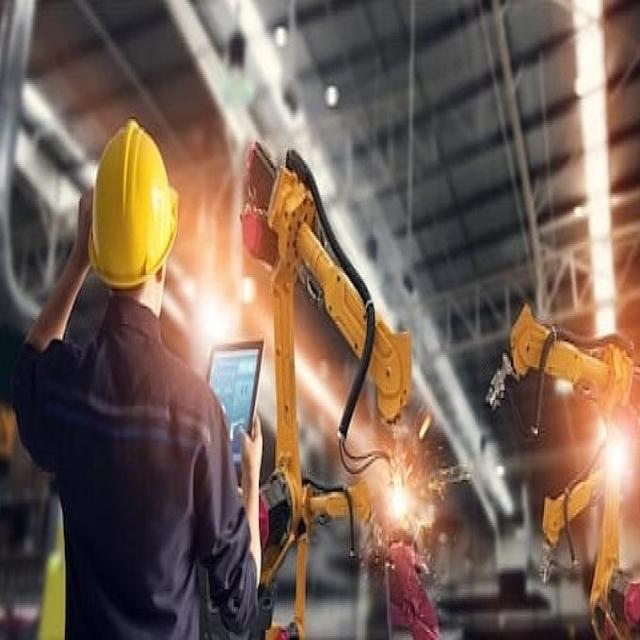Safety-Helmet: (82, 109, 182, 299)
